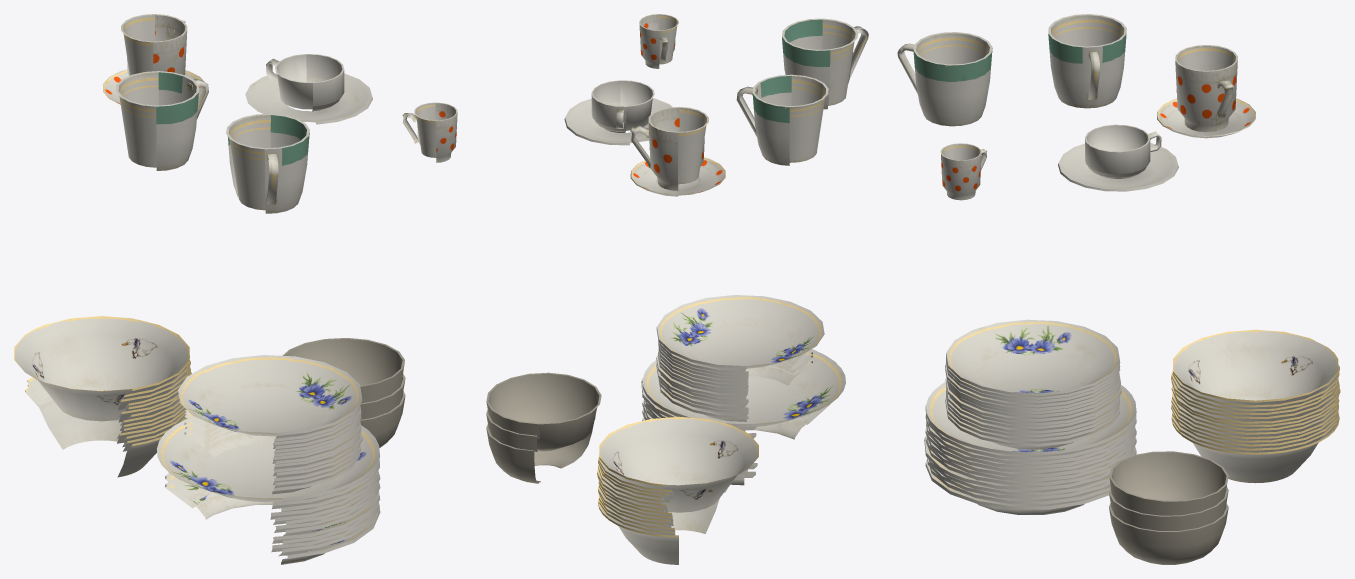
File: FurnitureKicthen02_add01.FBX
3 renders of one model, left to right at view 1: azimuth 30°, elevation 25°; view 2: azimuth 150°, elevation 25°; view 3: azimuth 270°, elevation 25°, orthographic. The views are drawn at different scales.
Parts seen in each view (by area): view 1: FurnitureKicthen02_add01_LOD0; view 2: FurnitureKicthen02_add01_LOD0; view 3: FurnitureKicthen02_add01_LOD0.
Part boxes in pixels (x1,y1,x2,y2): FurnitureKicthen02_add01_LOD0: (14, 14, 457, 564); FurnitureKicthen02_add01_LOD0: (486, 14, 868, 564); FurnitureKicthen02_add01_LOD0: (897, 14, 1340, 564).
Size of the model in its own units: 31.71 by 39.56 by 41.28.
